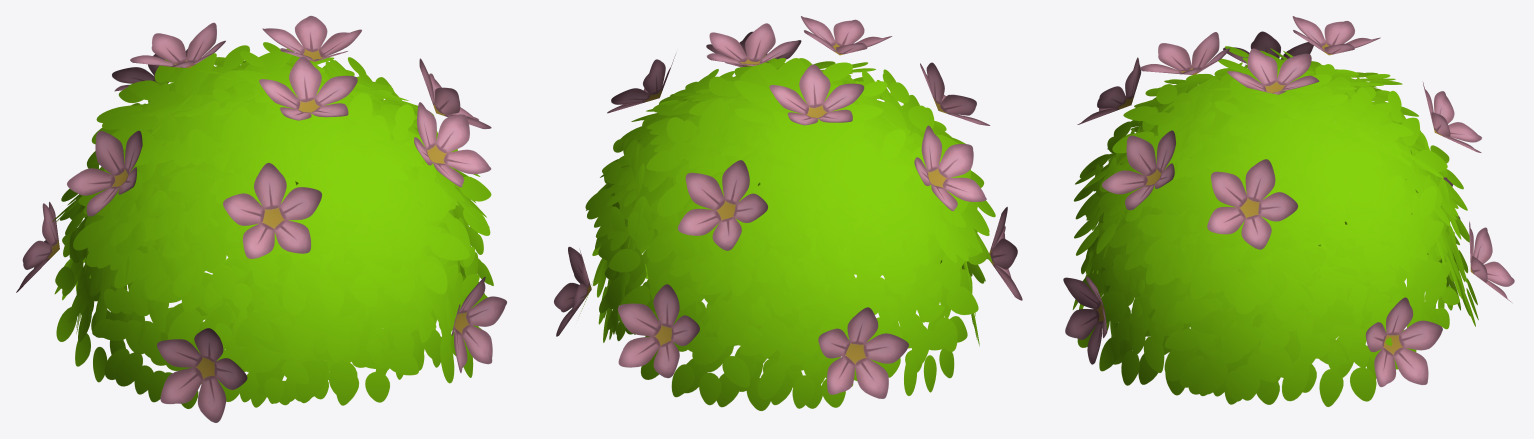
Rendered from Bush_Flowers.glb.
3 renders of one model, left to right at view 1: azimuth 30°, elevation 25°; view 2: azimuth 150°, elevation 25°; view 3: azimuth 270°, elevation 25°, orthographic. The views are drawn at different scales.
Parts seen in each view (by area): view 1: Bush_Flowers; view 2: Bush_Flowers; view 3: Bush_Flowers.
Boxes of the visible parts, box(x1,y1,x2,y2) form: Bush_Flowers: box(16, 15, 506, 422); Bush_Flowers: box(554, 16, 1022, 410); Bush_Flowers: box(1063, 16, 1514, 406).
Bounding box in the file's own units: 1.09 × 0.7586 × 1.11.
2 materials, 2 textured.
